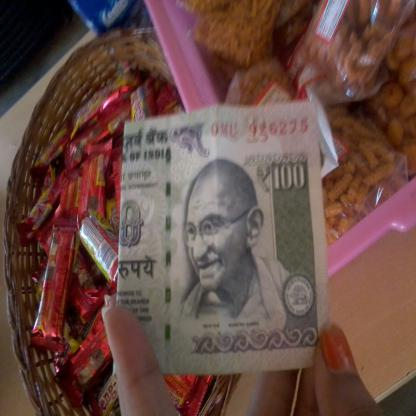Old100Front: (116, 100, 330, 375)
